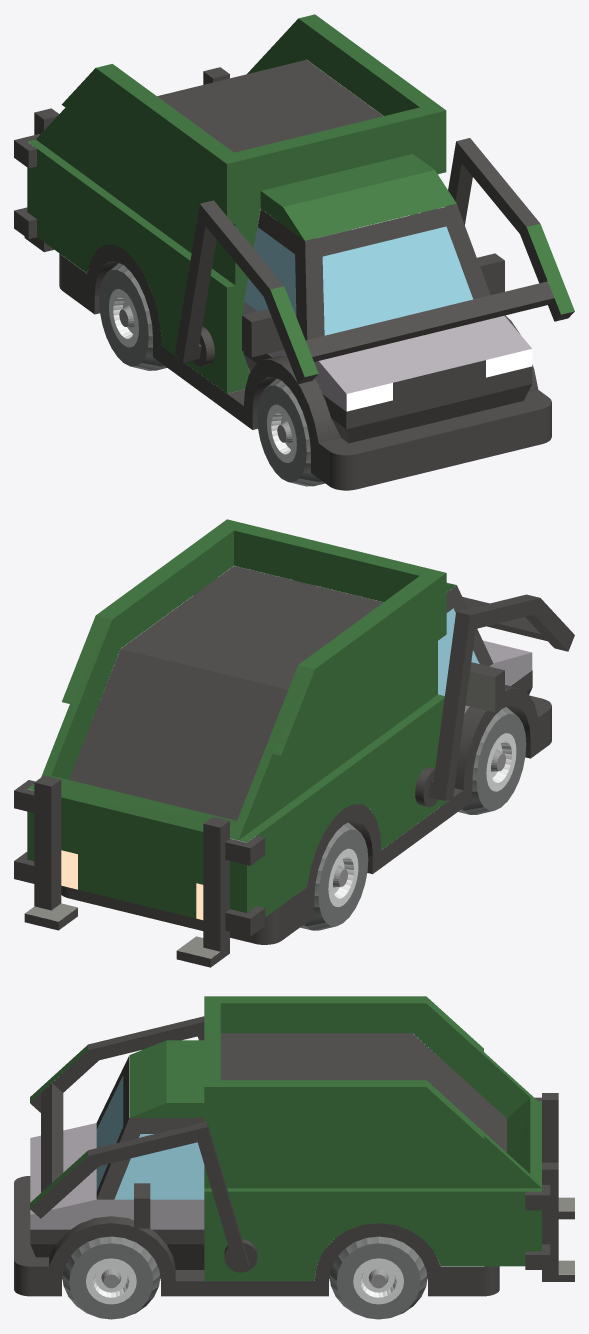
The model's file is garbage-truck.glb.
3 renders of one model, top to bottom at view 1: azimuth 30°, elevation 25°; view 2: azimuth 150°, elevation 25°; view 3: azimuth 270°, elevation 25°, orthographic. The views are drawn at different scales.
Visible parts, largest first — view 1: body.003, arm, wheel_backRight.003, wheel_frontRight.003; view 2: body.003, arm, wheel_backRight.003, wheel_frontRight.003; view 3: body.003, arm, wheel_frontLeft.003, wheel_backLeft.003.
Part boxes in pixels (x1=…): body.003: x1=14, y1=14, x2=551, y2=490; arm: x1=175, y1=138, x2=574, y2=384; wheel_backRight.003: x1=99, y1=263, x2=166, y2=370; wheel_frontRight.003: x1=257, y1=378, x2=324, y2=486; body.003: x1=14, y1=519, x2=551, y2=967; arm: x1=197, y1=580, x2=574, y2=807; wheel_backRight.003: x1=284, y1=822, x2=368, y2=930; wheel_frontRight.003: x1=458, y1=707, x2=526, y2=814; body.003: x1=14, y1=996, x2=574, y2=1296; arm: x1=30, y1=1016, x2=257, y2=1272; wheel_frontLeft.003: x1=62, y1=1236, x2=160, y2=1319; wheel_backLeft.003: x1=329, y1=1236, x2=427, y2=1319.
Size of the model in its own units: 1.6 by 1.6 by 3.4.
Materials: 3 (3 with a texture image).
